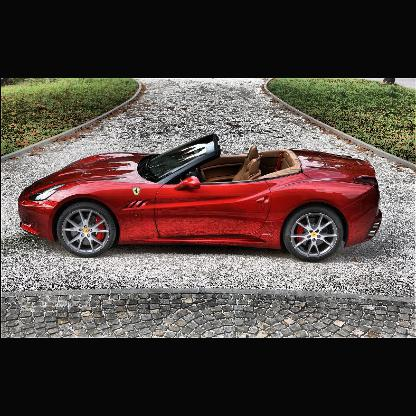Ferrari California Convertible 2012: (18, 133, 384, 264)
